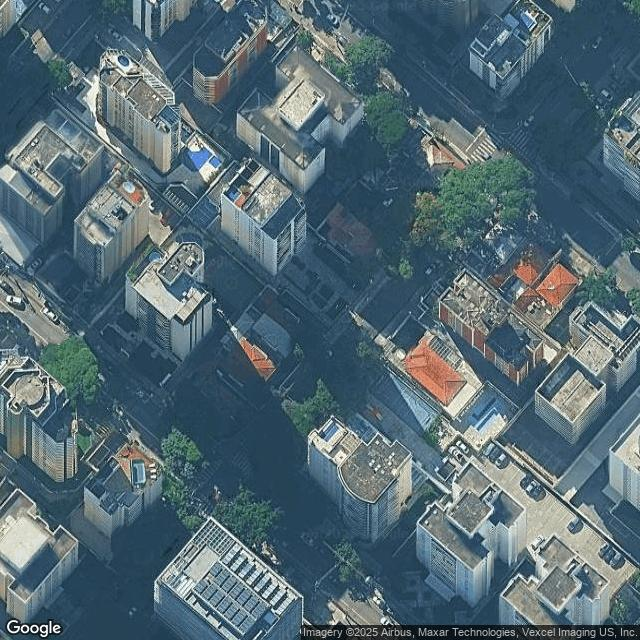pool: (614, 127, 629, 148), (479, 410, 500, 425), (198, 159, 213, 171), (185, 240, 204, 247), (121, 60, 130, 66)
